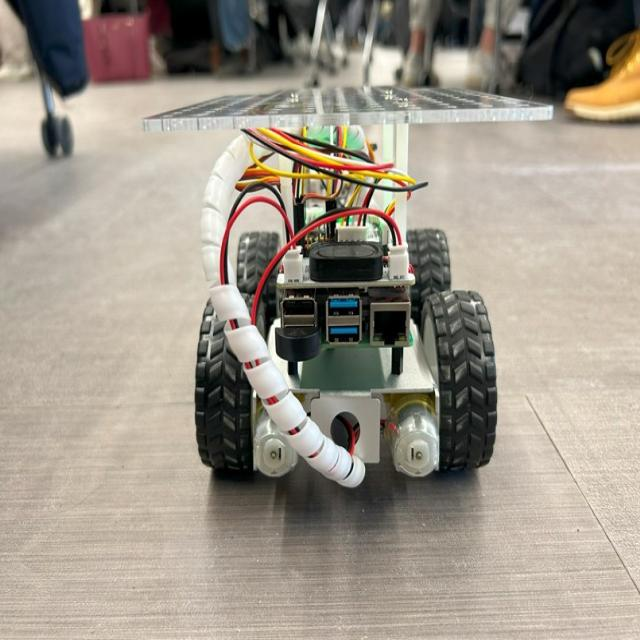vehicle: (133, 68, 572, 532)
